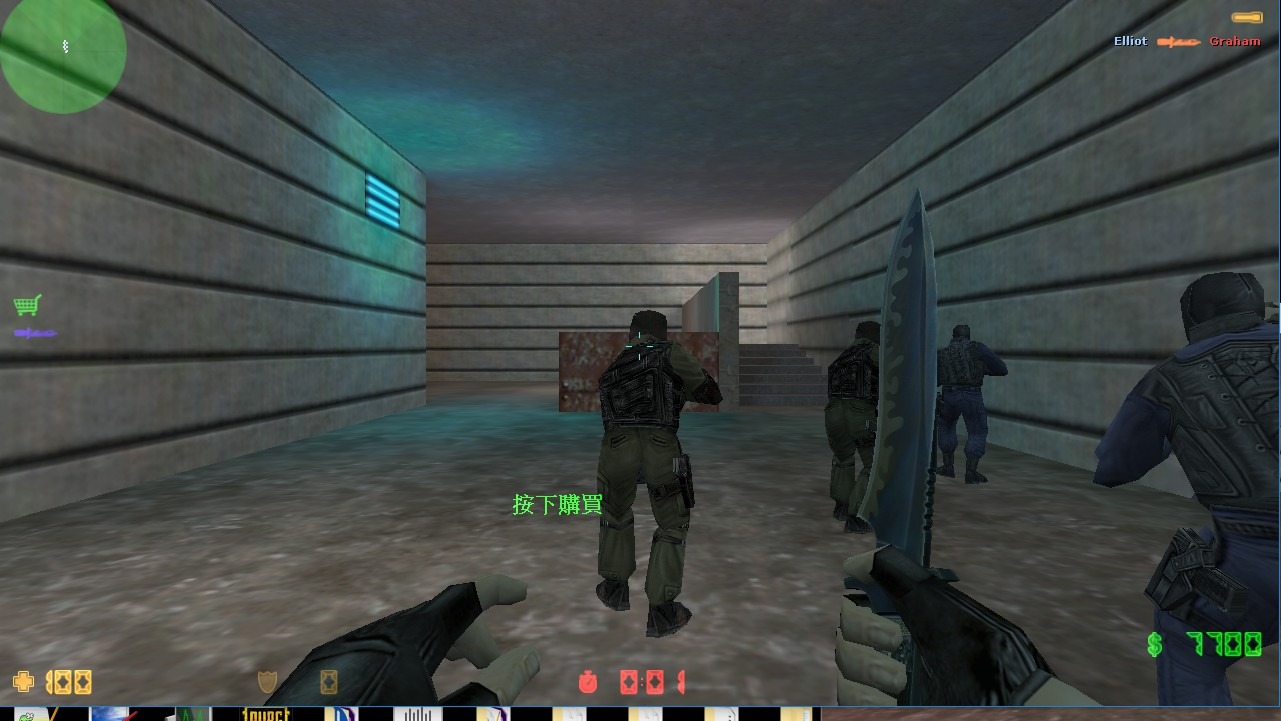person: (590, 311, 714, 641), (823, 319, 888, 533), (935, 322, 1010, 489)
